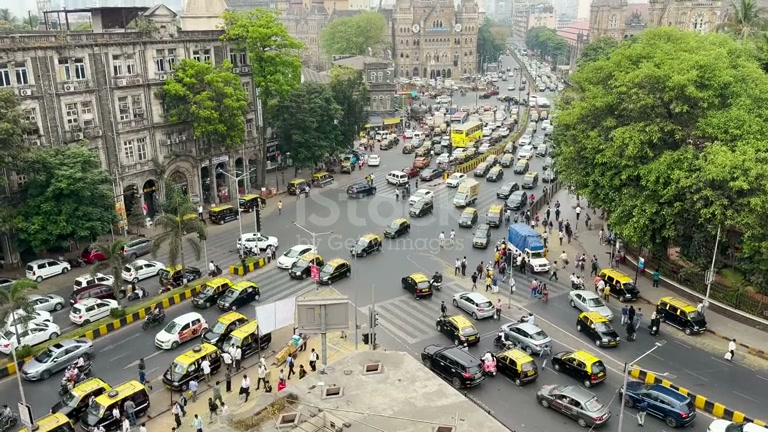bus: (450, 117, 484, 150)
car: (76, 379, 151, 431), (623, 380, 698, 429), (536, 383, 611, 430), (19, 337, 93, 383), (161, 341, 223, 391), (0, 308, 61, 357), (421, 345, 485, 390), (500, 316, 554, 360), (651, 295, 708, 336), (552, 348, 606, 388), (154, 311, 208, 350), (490, 347, 539, 386), (575, 311, 620, 348), (435, 312, 481, 348), (453, 289, 498, 321), (68, 297, 117, 326), (217, 280, 260, 311), (276, 244, 318, 272), (570, 290, 613, 316), (310, 257, 351, 284), (25, 258, 71, 282), (236, 232, 279, 257), (401, 271, 433, 298), (350, 232, 383, 258), (408, 189, 434, 217), (346, 179, 377, 199), (471, 224, 490, 249), (458, 207, 479, 228)
pedestrian: (238, 375, 250, 403)
